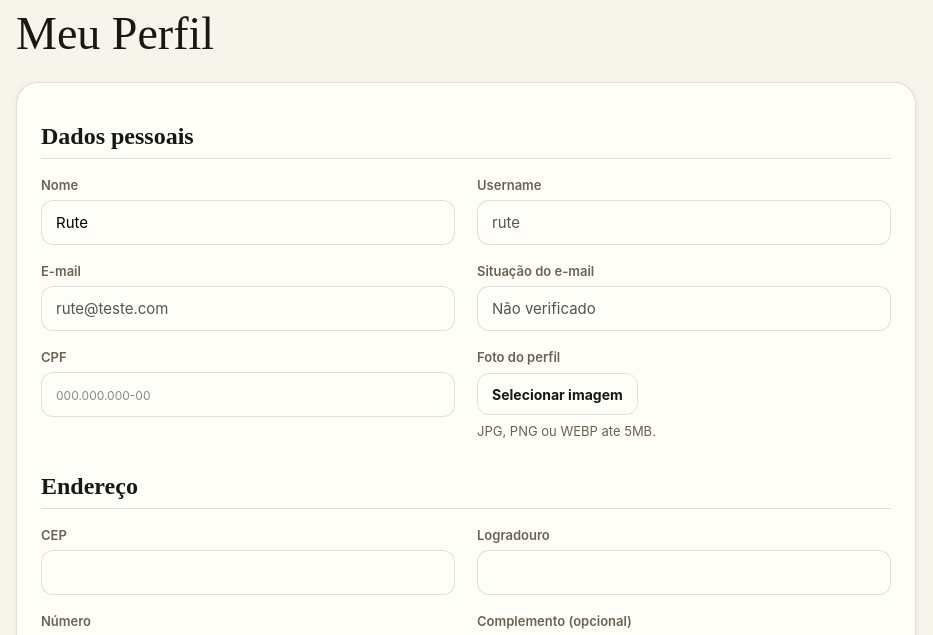
Scenario: autopreenchimento de endereco pelo CEP (ViaCEP) › mostra aviso e mantem os campos editaveis quando o CEP nao existe
Step 1. Type "00000000" into the field labelled "CEP" → (248, 572), box [41,550,455,595]
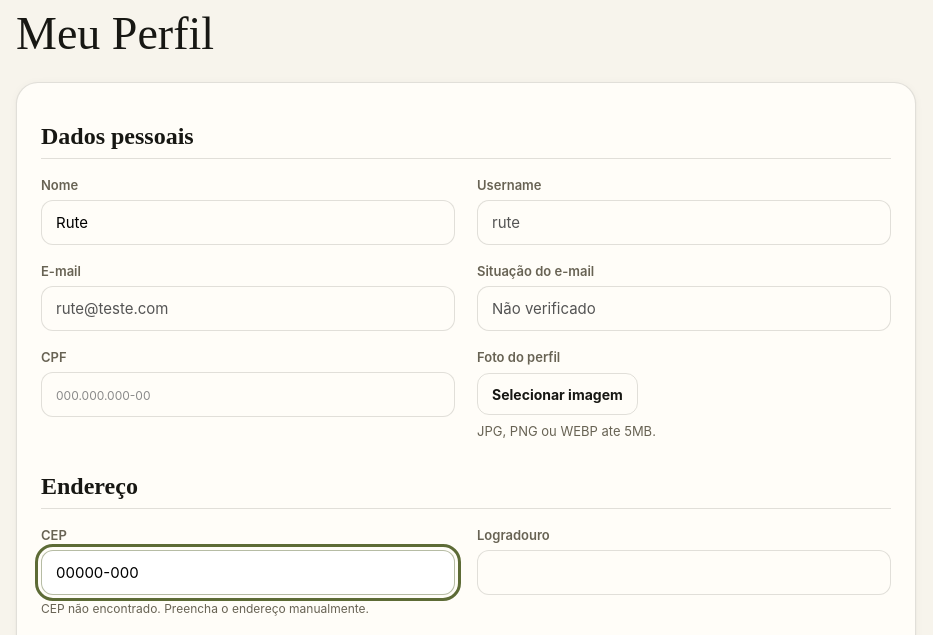
Expected: the field labelled "Logradouro" is empty, [477,550,891,595]
Expected: the text "CEP não encontrado. Preencha o endereço manualmente." is shown, [41,601,369,616]
